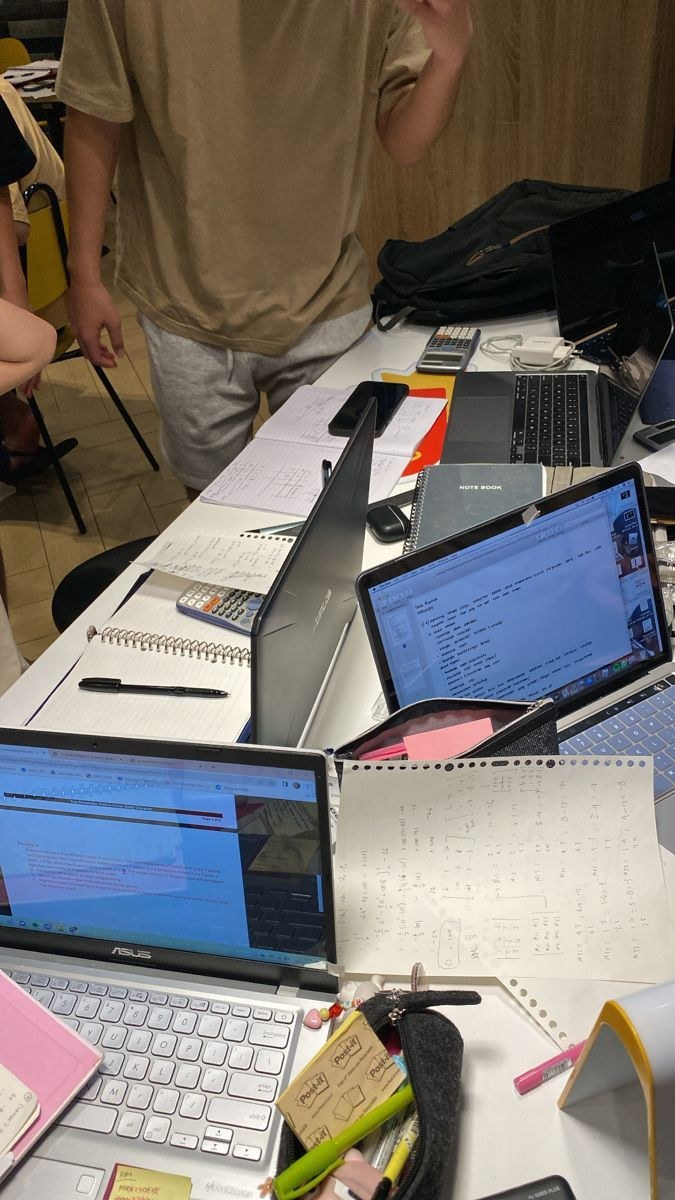cell phone: (328, 380, 409, 438)
laptop: (1, 725, 341, 1197), (354, 460, 674, 805), (175, 396, 377, 749), (439, 242, 674, 467), (546, 179, 674, 365)
